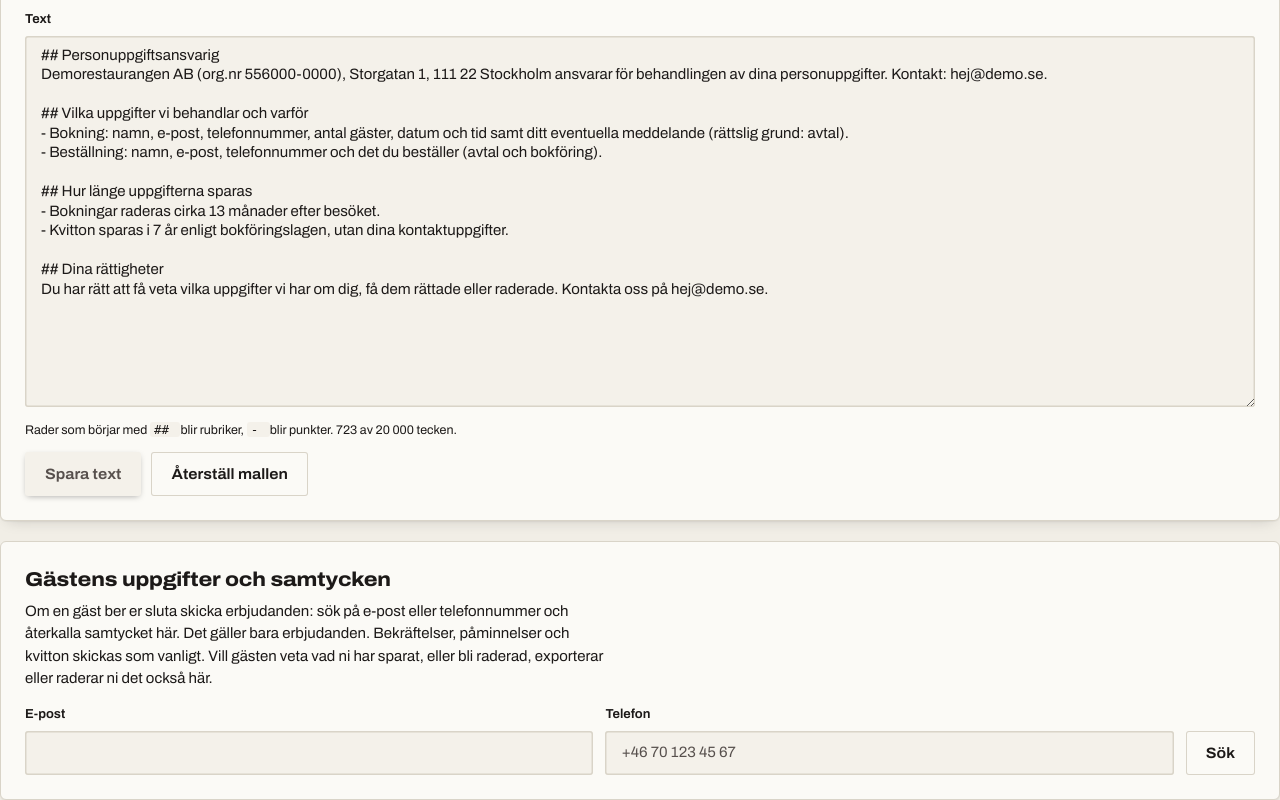
Test case: PrivacyCard › asks for a contact detail before searching
(page scrolled)
Click the button "Sök" at (1220, 752), box [1186, 730, 1255, 774]
(page scrolled)
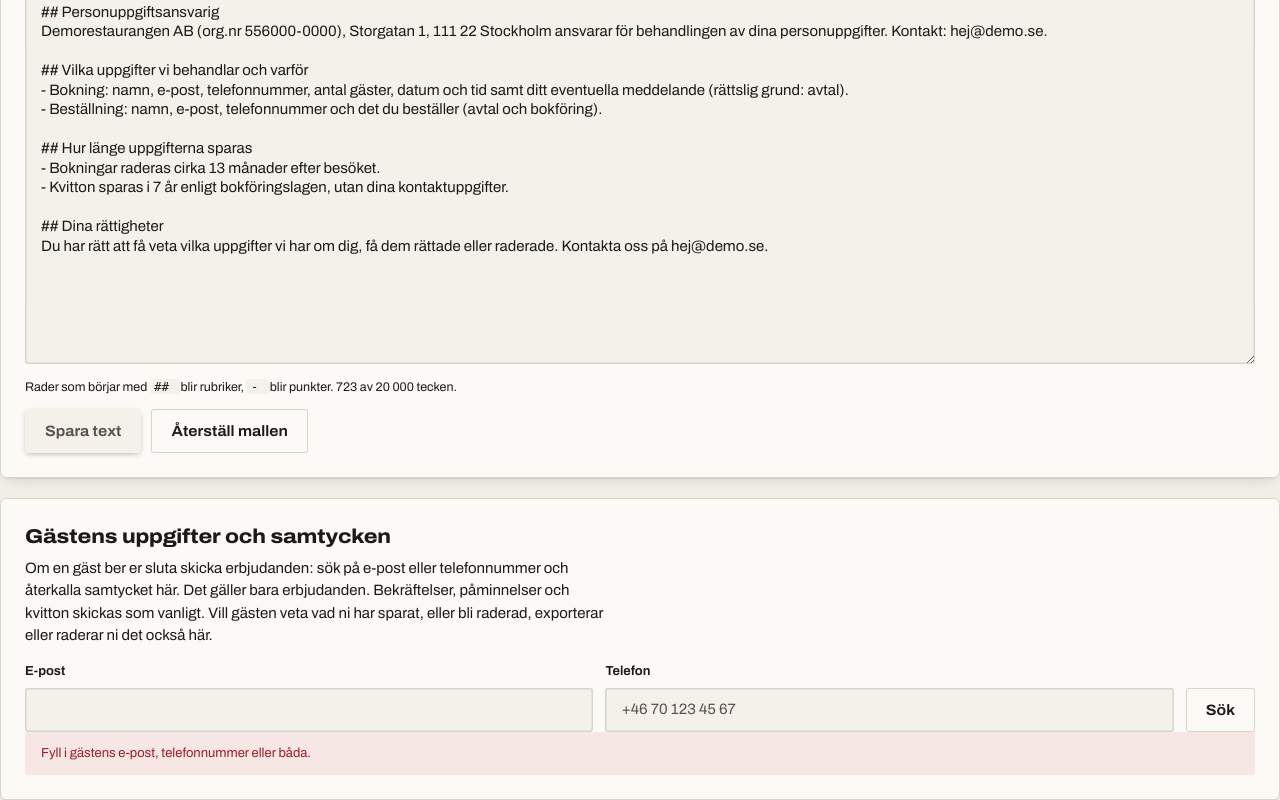
Now the message shows "e-post, telefonnummer", box [41, 746, 311, 760]
